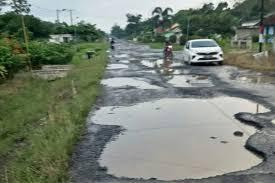Pothole: (86, 101, 275, 183), (196, 56, 275, 108), (143, 56, 218, 94), (101, 68, 167, 106), (105, 46, 134, 73)
